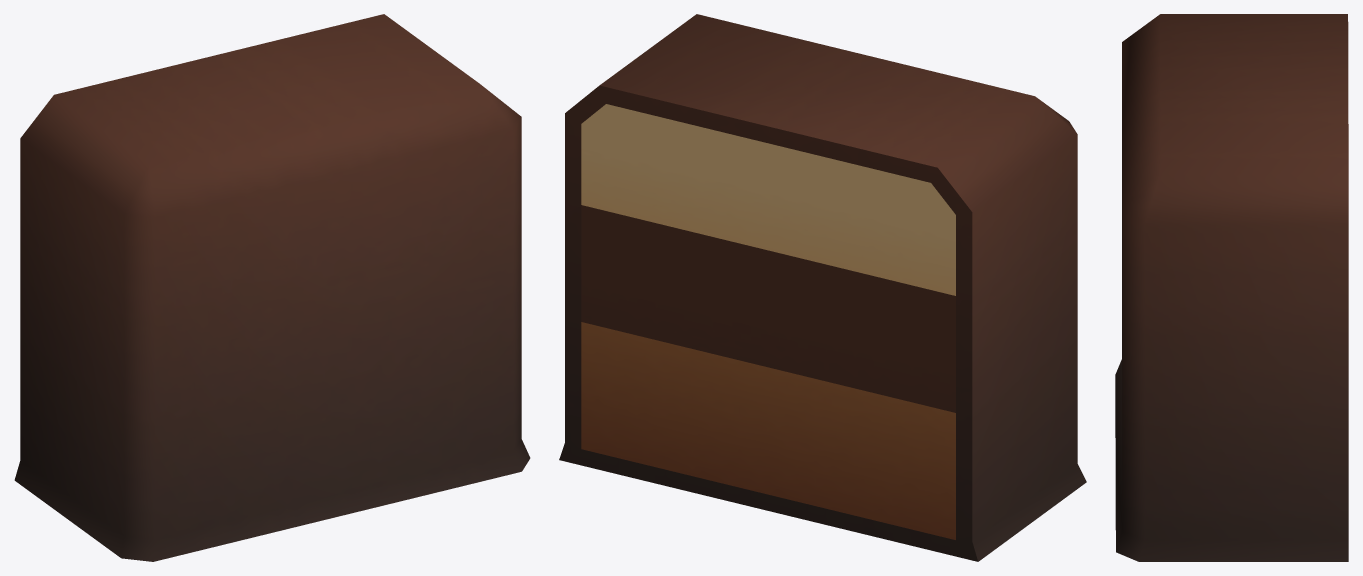
Rendered from m_GermanDominostein01_Cut.fbx.
3 renders of one model, left to right at view 1: azimuth 30°, elevation 25°; view 2: azimuth 150°, elevation 25°; view 3: azimuth 270°, elevation 25°, orthographic. The views are drawn at different scales.
Visible parts, largest first — view 1: m_GermanDominostein01_Cut; view 2: m_GermanDominostein01_Cut; view 3: m_GermanDominostein01_Cut.
Boxes of the visible parts, x1,y1,x2,y2 form: m_GermanDominostein01_Cut: (14,14,530,561); m_GermanDominostein01_Cut: (559,14,1086,561); m_GermanDominostein01_Cut: (1115,14,1348,561).
Bounding box in the file's own units: 4.12 × 3.61 × 2.06.
